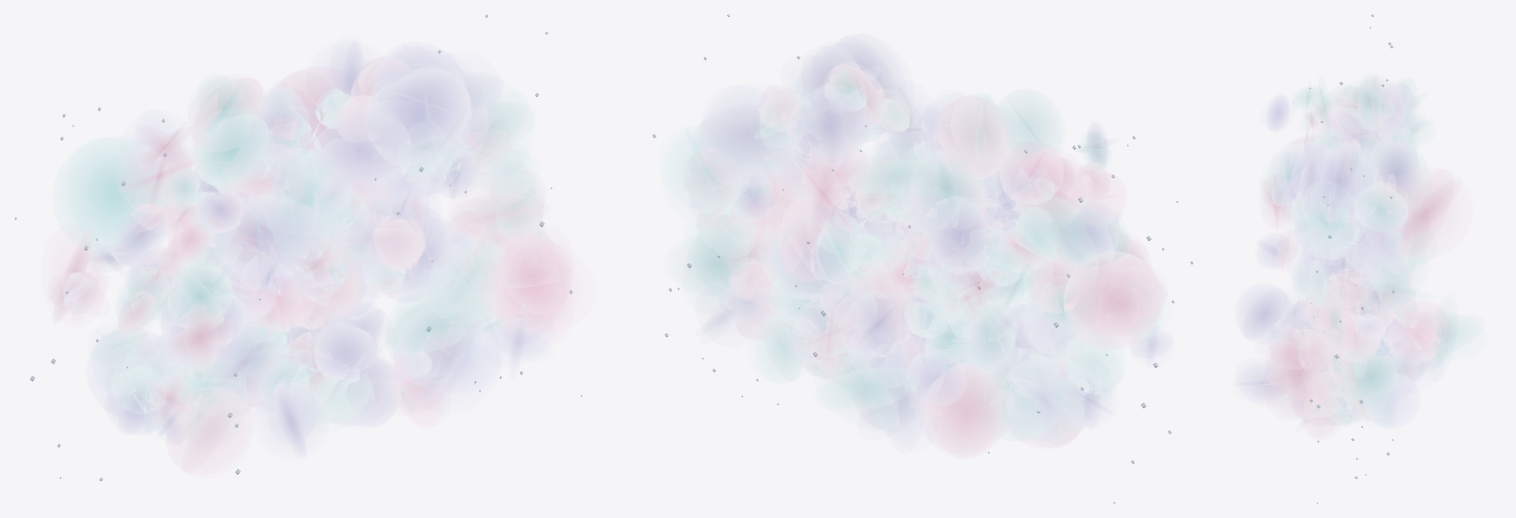
The picture shows the model from 3 angles, left to right: view 1: azimuth 30°, elevation 25°; view 2: azimuth 150°, elevation 25°; view 3: azimuth 270°, elevation 25°; orthographic projection. The views are drawn at different scales.
Bounding box in the file's own units: 5.95 × 4.43 × 3.34.
